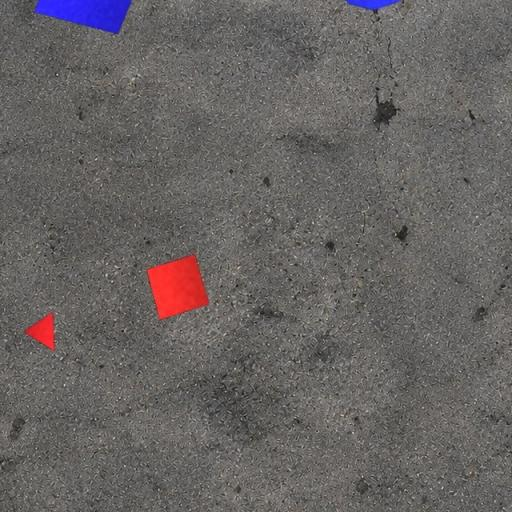RED_SQUARE: (146, 254, 210, 320)
